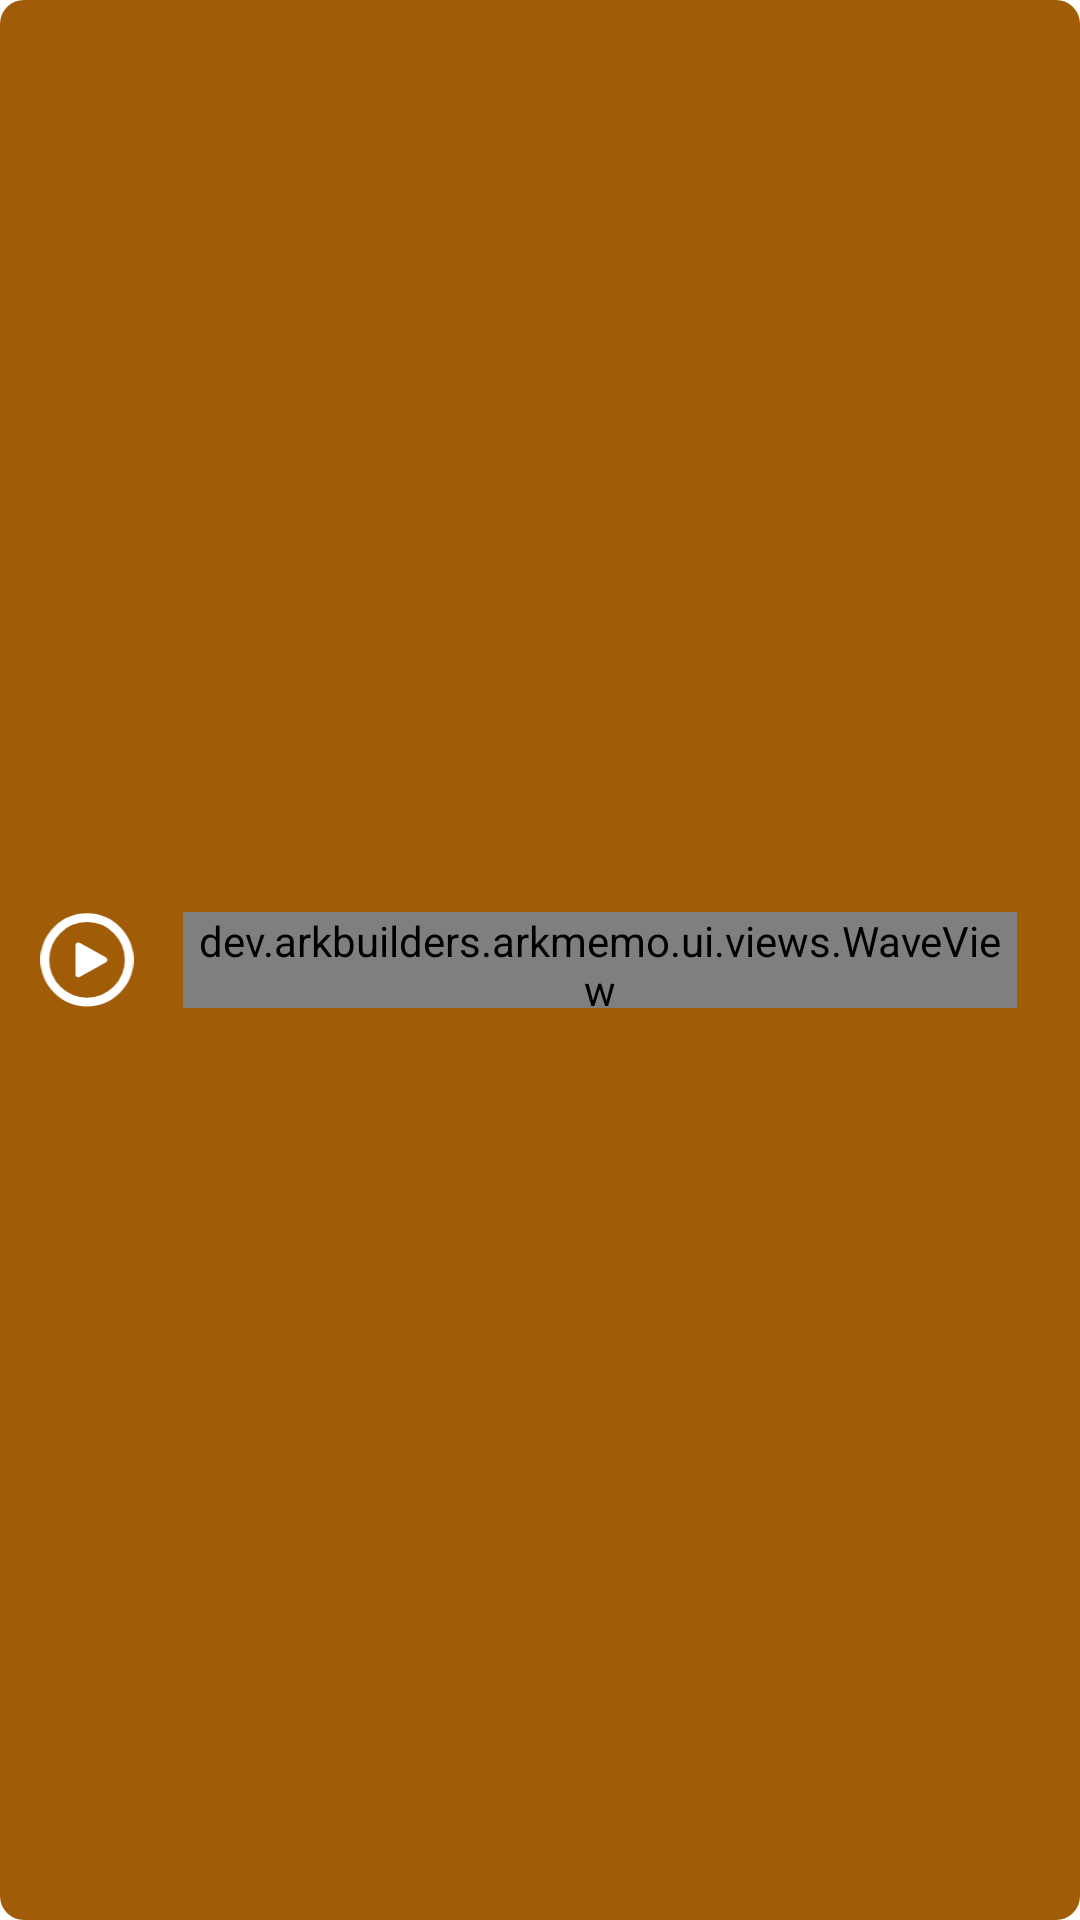

Icons on this 1080 x 1920 Android screen, each with the point to tap as (x,y):
Play/Pause: (87,960)
